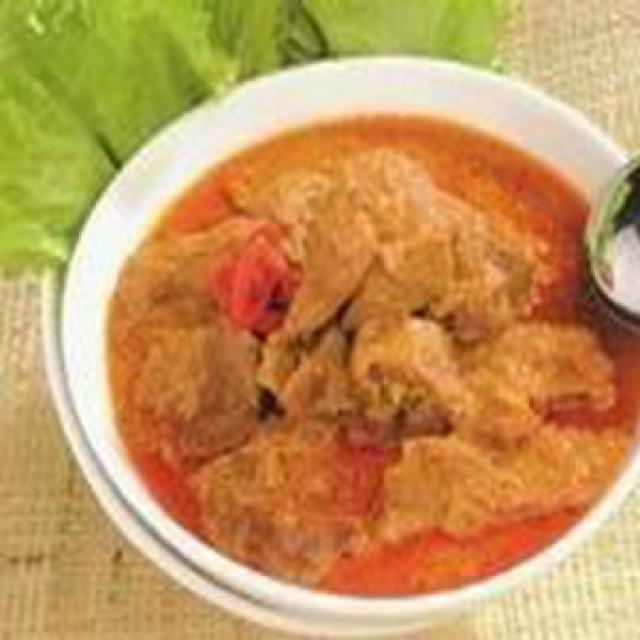熟制海鲜: (53, 47, 638, 612)
